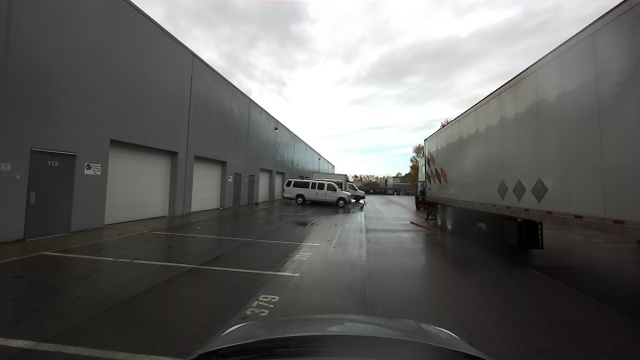car: (416, 1, 639, 250), (313, 169, 366, 202), (282, 181, 348, 206)
